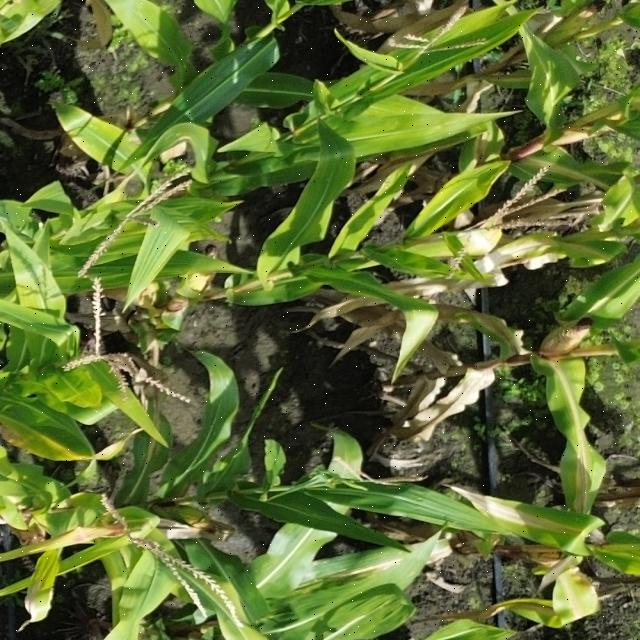northern-leaf-blight: (2, 416, 93, 462), (491, 503, 583, 535), (332, 563, 416, 586), (573, 441, 598, 504)
